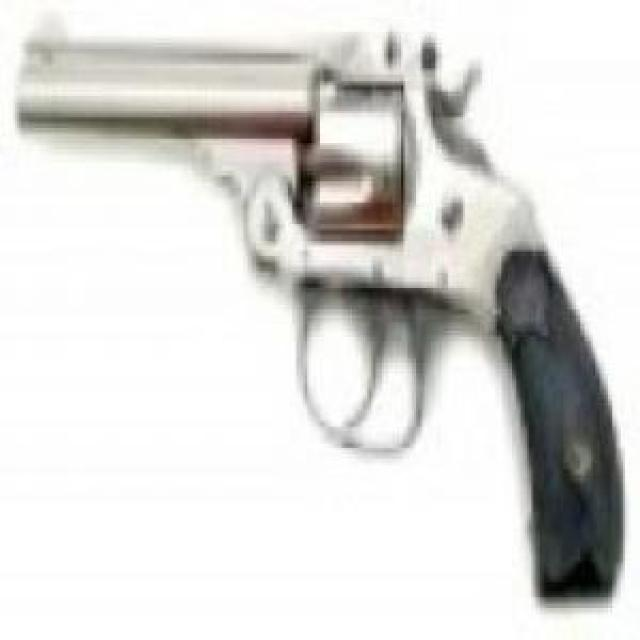pistol: (13, 17, 628, 604)
